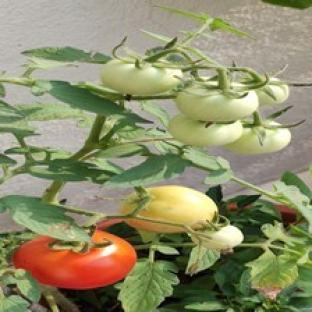Tomato: (13, 230, 136, 289), (126, 186, 217, 232), (101, 59, 182, 96), (175, 87, 259, 122), (168, 113, 242, 147), (223, 122, 291, 154), (191, 225, 243, 250), (257, 78, 289, 105)
